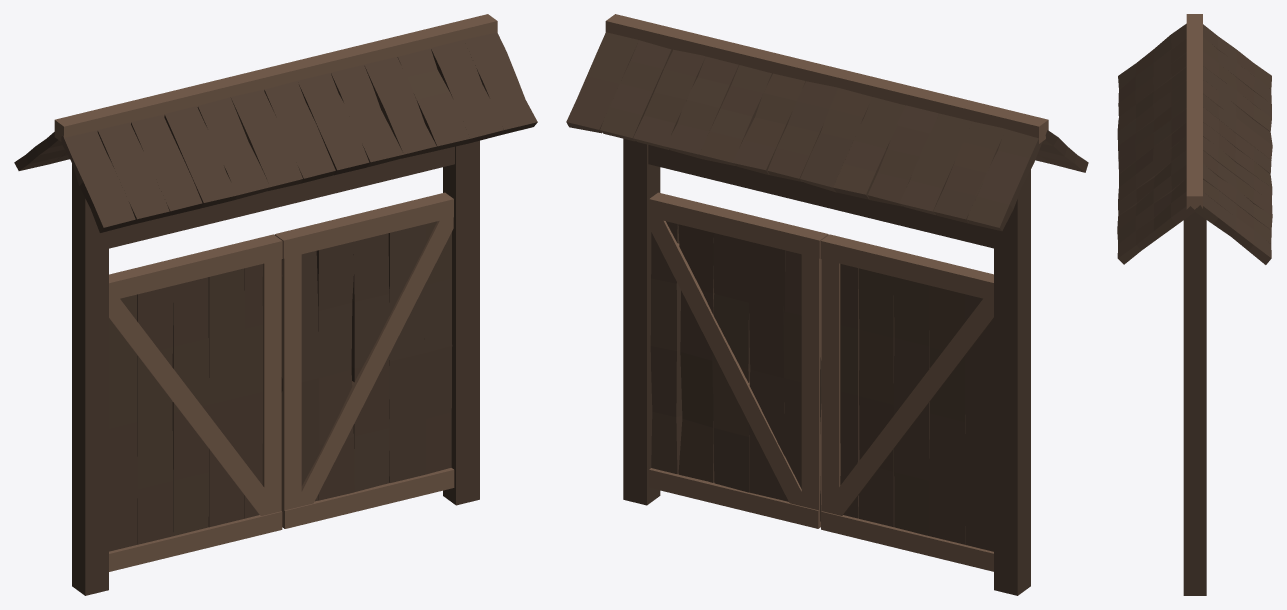
The model's file is vorota.fbx.
3 renders of one model, left to right at view 1: azimuth 30°, elevation 25°; view 2: azimuth 150°, elevation 25°; view 3: azimuth 270°, elevation 25°, orthographic. The views are drawn at different scales.
Parts seen in each view (by area): view 1: Cube.005, Cube.003, Cube.004, Cube, Cube.001, Cube.002, Cube.012, Cube.013, Cube.011, Cube.006, Cube.007, Cube.010 (+2 smaller); view 2: Cube.005, Cube.003, Cube.004, Cube, Cube.001, Cube.002, Cube.012, Cube.011, Cube.013, Cube.010, Cube.006, Cube.007 (+2 smaller); view 3: Cube.005, Cube, Cube.001.
Boxes of the visible parts, x1=… form: Cube.005: x1=14, y1=32, x2=537, y2=232; Cube.003: x1=109, y1=264, x2=262, y2=551; Cube.004: x1=281, y1=221, x2=452, y2=501; Cube: x1=72, y1=140, x2=479, y2=595; Cube.001: x1=54, y1=14, x2=497, y2=141; Cube.002: x1=109, y1=146, x2=454, y2=248; Cube.012: x1=295, y1=217, x2=453, y2=506; Cube.013: x1=109, y1=299, x2=277, y2=515; Cube.011: x1=281, y1=254, x2=301, y2=510; Cube.006: x1=109, y1=234, x2=282, y2=301; Cube.007: x1=274, y1=192, x2=453, y2=258; Cube.010: x1=262, y1=259, x2=281, y2=513; Cube.005: x1=566, y1=32, x2=1088, y2=231; Cube.003: x1=840, y1=264, x2=993, y2=551; Cube.004: x1=650, y1=221, x2=821, y2=521; Cube: x1=623, y1=138, x2=1030, y2=595; Cube.001: x1=605, y1=14, x2=1048, y2=143; Cube.002: x1=648, y1=145, x2=993, y2=248; Cube.012: x1=649, y1=217, x2=801, y2=505; Cube.011: x1=801, y1=254, x2=821, y2=510; Cube.013: x1=839, y1=298, x2=993, y2=515; Cube.010: x1=821, y1=259, x2=840, y2=515; Cube.006: x1=820, y1=234, x2=993, y2=300; Cube.007: x1=649, y1=192, x2=828, y2=258; Cube.005: x1=1117, y1=23, x2=1272, y2=264; Cube: x1=1183, y1=212, x2=1206, y2=595; Cube.001: x1=1186, y1=14, x2=1202, y2=209.
Bounding box in the file's own units: 1482 × 1539 × 532.
